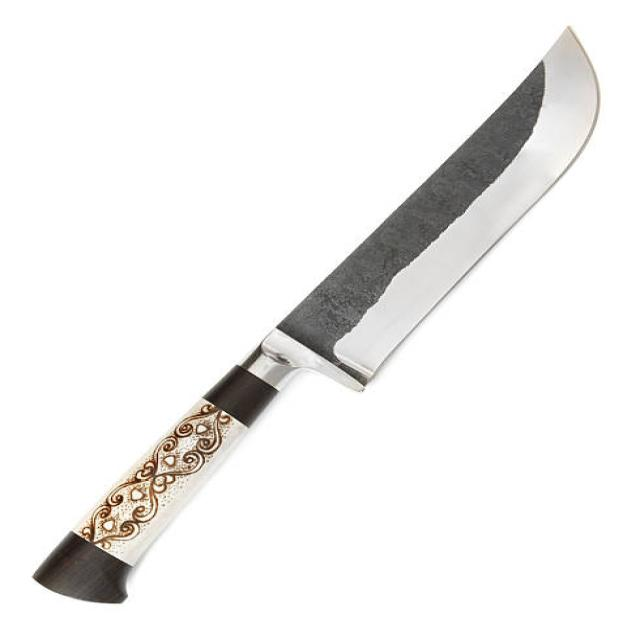knife: (28, 23, 604, 617)
